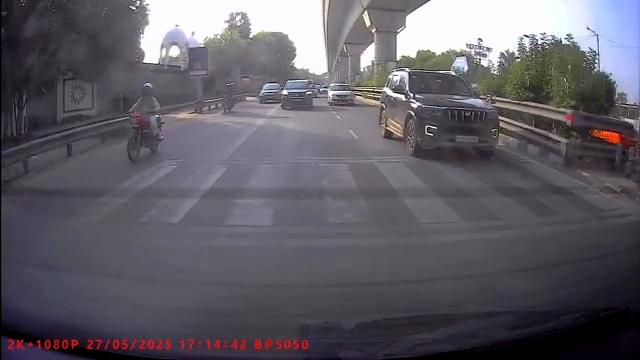motorcycle_with_helmet: (123, 80, 165, 165)
